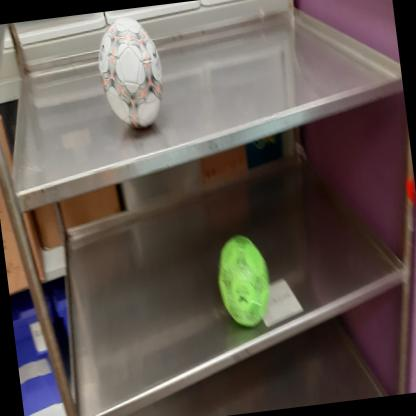ball: (92, 12, 169, 134), (212, 230, 274, 330)
